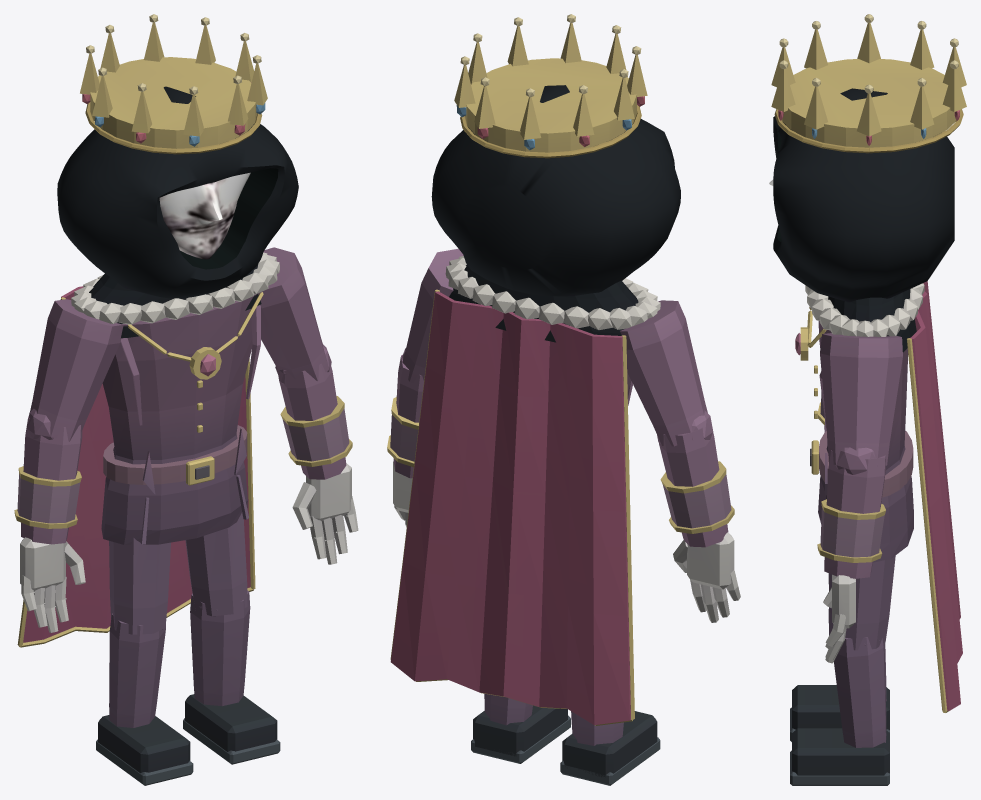
Rendered from HoodedStrangerKing.glb.
3 views of the same model, side by side, from view 1: azimuth 30°, elevation 25°; view 2: azimuth 150°, elevation 25°; view 3: azimuth 270°, elevation 25° (orthographic). The views are drawn at different scales.
Visible parts, largest first — view 1: Body, Head, ArmR, ArmL, LegR, LegL, HeadFace; view 2: Body, Head, ArmR, ArmL, LegR, LegL; view 3: Head, Body, ArmL, LegL, LegR.
Part boxes in pixels (x1=…): Body: x1=17, y1=252, x2=279, y2=647; Head: x1=57, y1=14, x2=298, y2=338; ArmR: x1=14, y1=299, x2=123, y2=632; ArmL: x1=258, y1=247, x2=358, y2=564; LegR: x1=96, y1=538, x2=193, y2=785; LegL: x1=183, y1=512, x2=280, y2=764; HeadFace: x1=159, y1=172, x2=250, y2=259; Body: x1=390, y1=256, x2=660, y2=725; Head: x1=431, y1=14, x2=680, y2=349; ArmR: x1=620, y1=300, x2=740, y2=622; ArmL: x1=387, y1=248, x2=463, y2=526; LegR: x1=560, y1=711, x2=660, y2=785; LegL: x1=471, y1=693, x2=570, y2=763; Head: x1=771, y1=14, x2=966, y2=352; Body: x1=795, y1=281, x2=962, y2=712; ArmL: x1=817, y1=333, x2=902, y2=663; LegL: x1=790, y1=555, x2=895, y2=785; LegR: x1=790, y1=573, x2=889, y2=741.
Size of the model in its own units: 3.74 by 7.44 by 1.9.
Materials: 2 (1 with a texture image).
